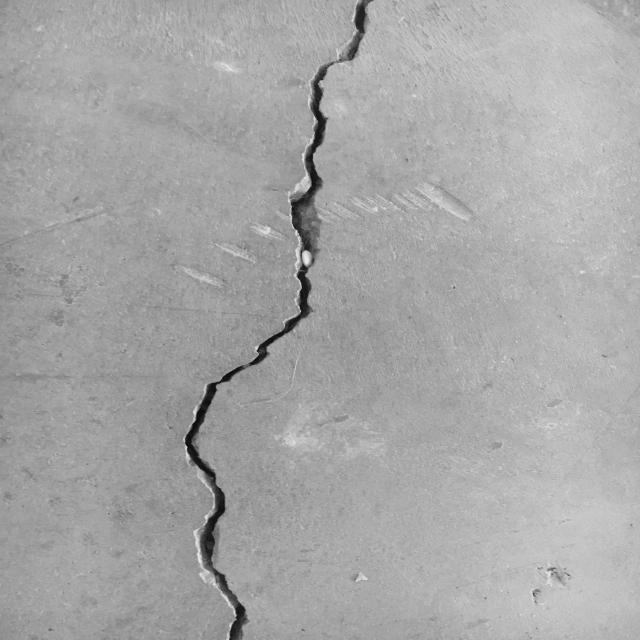SurfaceCrack: (156, 0, 419, 639)
